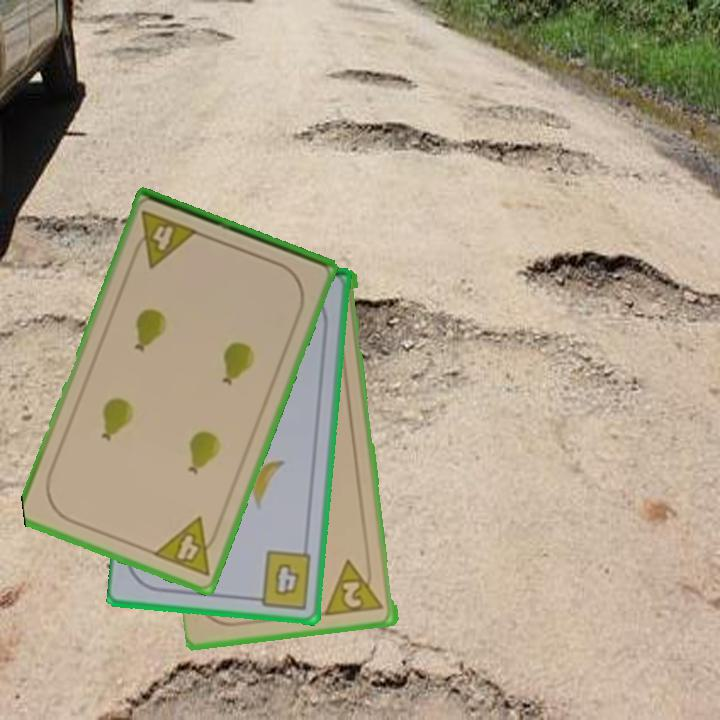2p: (323, 555, 388, 619)
4b: (248, 547, 315, 612)
4p: (149, 513, 224, 580), (128, 207, 201, 271)
